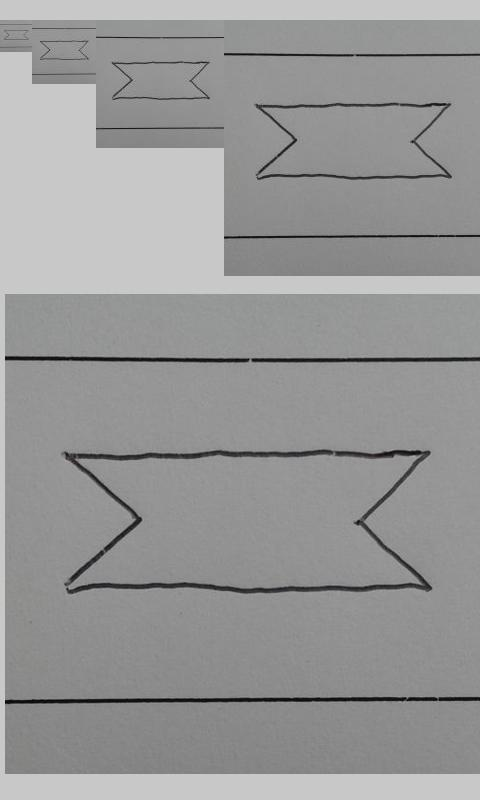edit_text: (63, 447, 431, 595), (255, 101, 453, 180), (111, 61, 209, 100), (40, 40, 88, 61), (3, 29, 29, 40)
